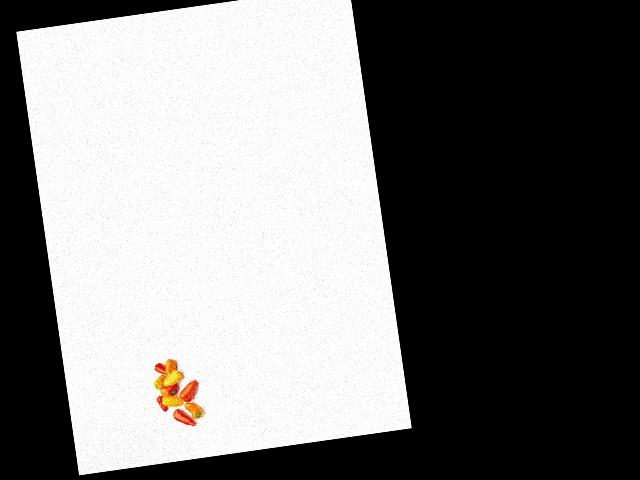bell_pepper: (155, 393, 167, 414)
